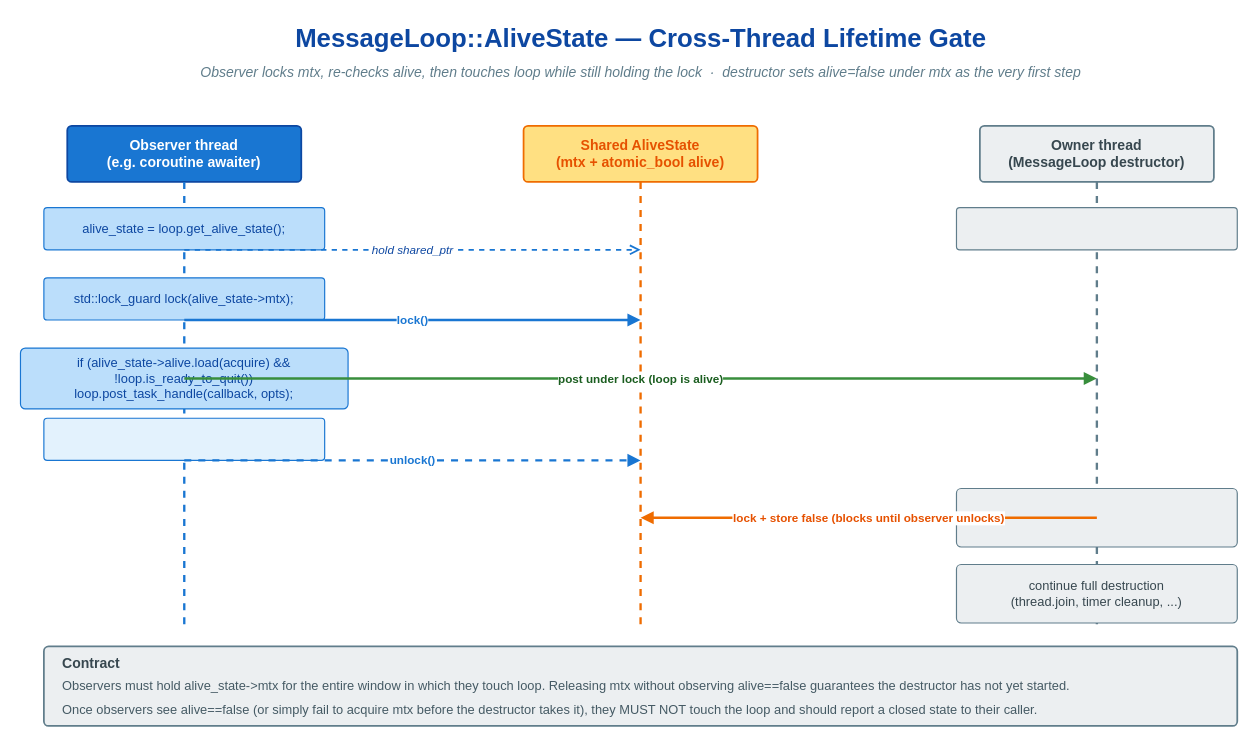
This 1259x746 diagram has some shape labels left out. Here are the shapes that lost their labels. From the top down, the centre of each, then its label:
At (1096,228): "MessageLoop::~MessageLoop()".
At (184,438): "lock_guard out of scope -> unlock();".
At (1096,517): "lock_guard lock(alive_state->mtx); alive_state->alive.store(false, release);".
